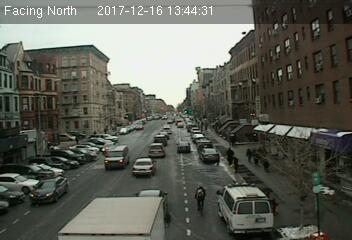bicycle: (194, 185, 206, 216)
car: (29, 177, 67, 201), (134, 158, 153, 174), (200, 148, 219, 163), (150, 143, 166, 157), (176, 141, 191, 152), (153, 134, 167, 144)
police: (216, 182, 274, 235)
truck: (105, 147, 130, 167)
